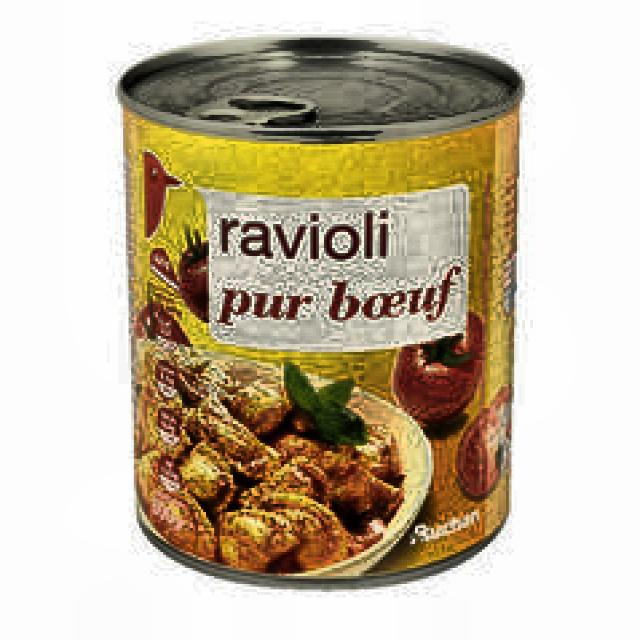Cans: (93, 22, 528, 594)
